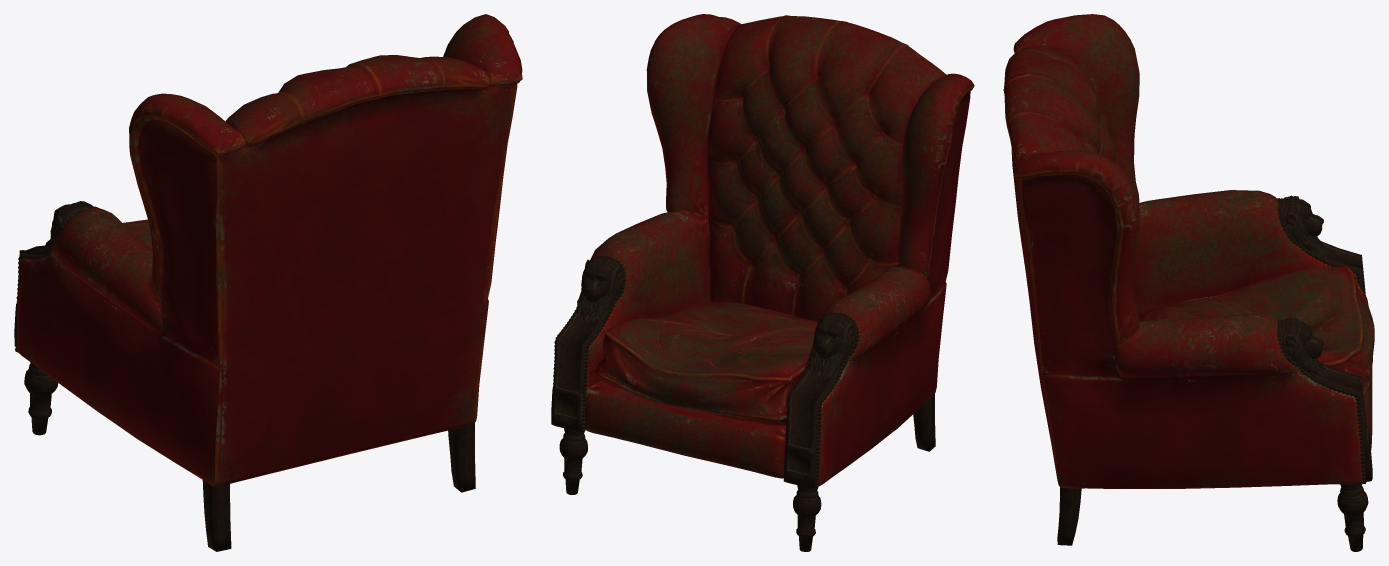
File: the_matrix_red_chesterfield_chair.glb
The picture shows the model from 3 angles, left to right: view 1: azimuth 30°, elevation 25°; view 2: azimuth 150°, elevation 25°; view 3: azimuth 270°, elevation 25°; orthographic projection. The views are drawn at different scales.
Parts seen in each view (by area): view 1: Body_low, FeetBack_low, FeetFront_low, Lions_low; view 2: Body_low, Cushion_low, Wood_low, Lions_low, FeetFront_low, Balls_low, FeetBack_low; view 3: Body_low, Cushion_low, Lions_low, Wood_low, FeetFront_low, Balls_low, FeetBack_low.
Part boxes in pixels (<box>): Body_low: <box>16,14,522,486</box>; FeetBack_low: <box>202,422,475,551</box>; FeetFront_low: <box>24,362,58,435</box>; Lions_low: <box>45,201,97,249</box>; Body_low: <box>584,14,974,486</box>; Cushion_low: <box>595,301,817,425</box>; Wood_low: <box>551,307,841,488</box>; Lions_low: <box>576,256,856,379</box>; FeetFront_low: <box>559,428,821,551</box>; Balls_low: <box>553,255,859,488</box>; FeetBack_low: <box>913,394,935,451</box>; Body_low: <box>1003,14,1372,488</box>; Cushion_low: <box>1138,266,1374,395</box>; Lions_low: <box>1280,195,1329,378</box>; Wood_low: <box>1307,241,1372,481</box>; FeetFront_low: <box>1337,483,1368,551</box>; Balls_low: <box>1277,198,1366,483</box>; FeetBack_low: <box>1057,487,1081,545</box>.
Size of the model in its own units: 1.11 by 1.35 by 1.09.
3 materials, 3 textured.
